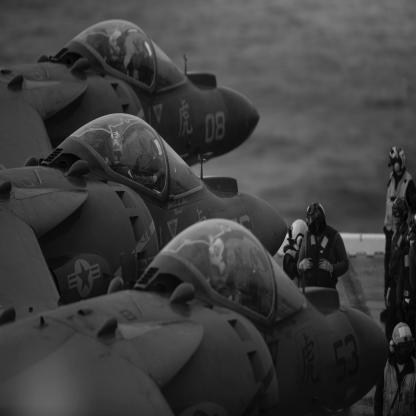AV8B: (1, 219, 391, 416), (1, 114, 289, 321), (1, 20, 261, 172)
